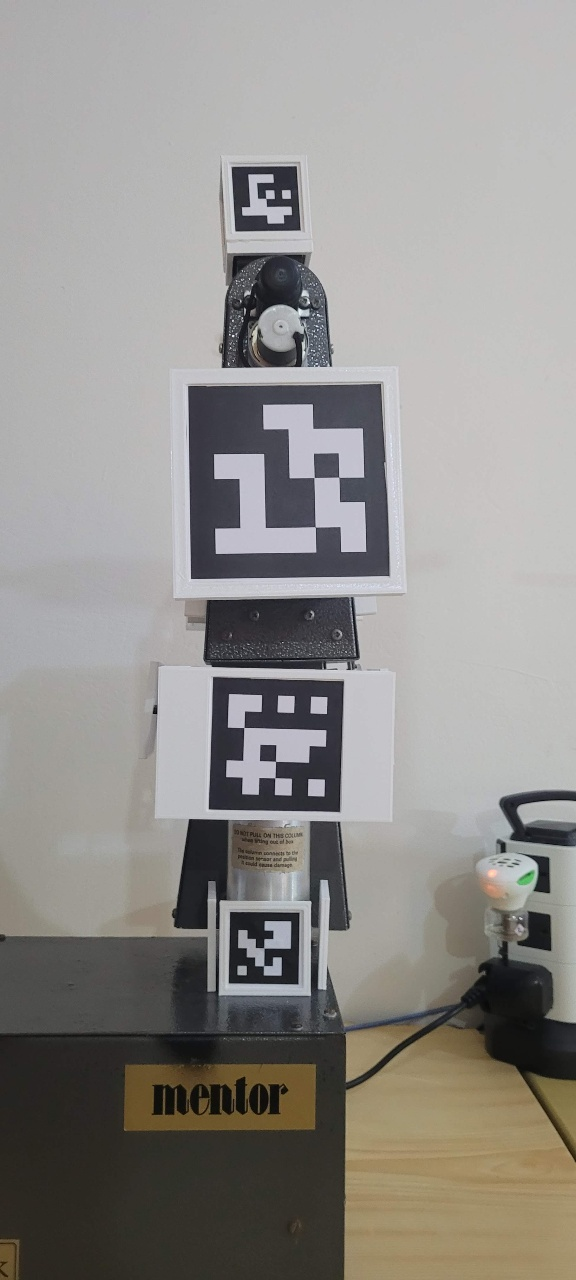Robot: (152, 151, 413, 1005)
